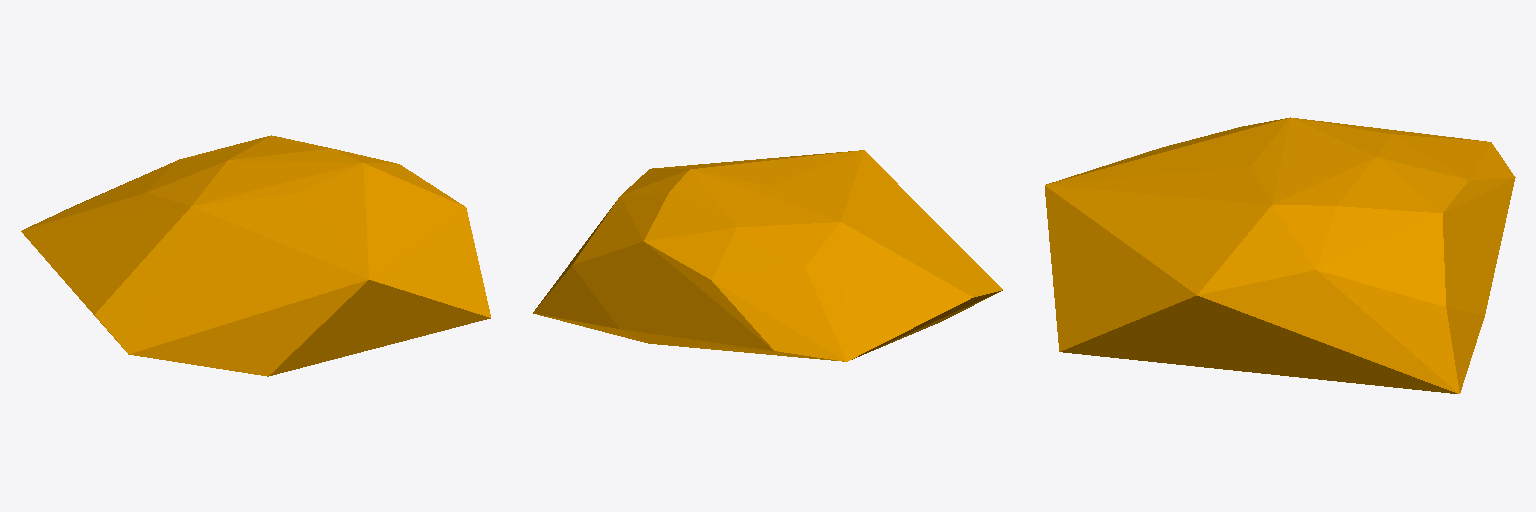
The robot description file, URDF, robot "train0156":
<?xml version="1.0"?>
<robot name="train0156">
  <link name="link">
    <contact>
      <lateral_friction value="0.6"/>
    </contact>
    <inertial>
      <mass value = "0.2666802790281761"/>
      <inertia ixx="0.00010447950758709677" ixy="3.782208095448008e-37" ixz="7.426978993242784e-21" iyy="0.00011619075253941172" iyz="2.1219939980693675e-21" izz="0.00019629200301186198" />
    </inertial>
    <visual name="visual">
      <geometry>
        <mesh filename="train0156.obj"/>
      </geometry>
    </visual>
    <collision name="collision">
      <geometry>
        <mesh filename="train0156.obj"/>
      </geometry>
    </collision>
  </link>
</robot>

--- Render facts (derived) ---
3 views of the same robot in one strip: view 1: azimuth 30°, elevation 25°; view 2: azimuth 150°, elevation 25°; view 3: azimuth 270°, elevation 25° (orthographic).
Model train0156 with 1 links and 0 joints (none), rooted at link, posed all joints at 0.
Visible links, largest first — view 1: link; view 2: link; view 3: link.
Link boxes in pixels (x1,y1,x2,y2): link: [21, 135, 490, 376]; link: [533, 150, 1002, 361]; link: [1045, 117, 1515, 393].
Bounding box of the posed robot: 0.0897 × 0.0817 × 0.0306 m (x, y, z).
1 mesh visuals loaded from 1 distinct referenced files (1 OBJ).
